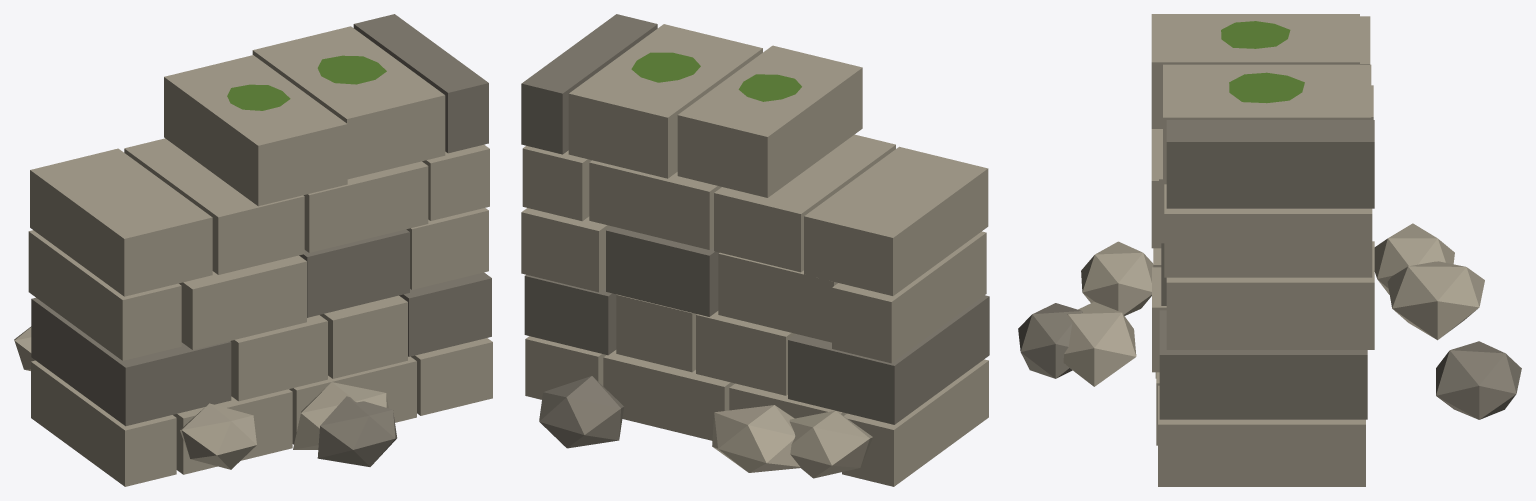
The model's file is RuinWallA.glb.
3 renders of one model, left to right at view 1: azimuth 30°, elevation 25°; view 2: azimuth 150°, elevation 25°; view 3: azimuth 270°, elevation 25°, orthographic. The views are drawn at different scales.
Visible parts, largest first — view 1: RuinWallA.stone, RuinWallA.stoneDark, RuinWallA.moss; view 2: RuinWallA.stone, RuinWallA.stoneDark, RuinWallA.moss; view 3: RuinWallA.stone, RuinWallA.stoneDark, RuinWallA.moss.
Boxes of the visible parts, bbox=[...] form: RuinWallA.stone: bbox=[14, 26, 492, 486]; RuinWallA.stoneDark: bbox=[31, 14, 491, 466]; RuinWallA.moss: bbox=[227, 55, 386, 110]; RuinWallA.stone: bbox=[521, 24, 988, 486]; RuinWallA.stoneDark: bbox=[521, 14, 989, 448]; RuinWallA.moss: bbox=[631, 52, 801, 101]; RuinWallA.stone: bbox=[1063, 14, 1484, 486]; RuinWallA.stoneDark: bbox=[1018, 120, 1521, 419]; RuinWallA.moss: bbox=[1221, 21, 1304, 103].
Bounding box in the file's own units: 4.94 × 4.09 × 5.33.
